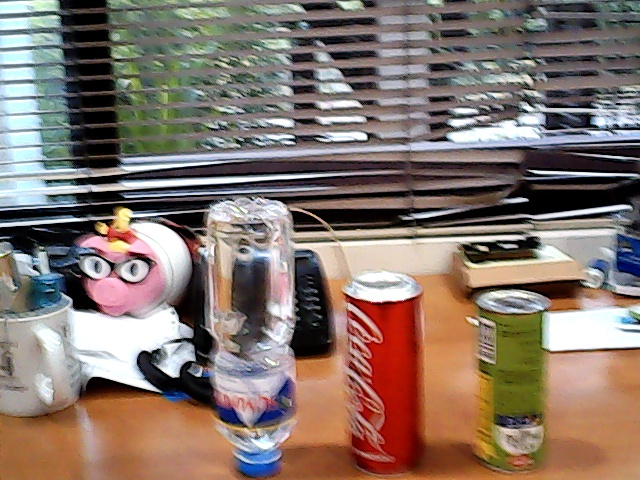Cola: (328, 257, 450, 480)
Pine Juice: (459, 262, 581, 480)
Summit Water: (181, 185, 308, 480)
